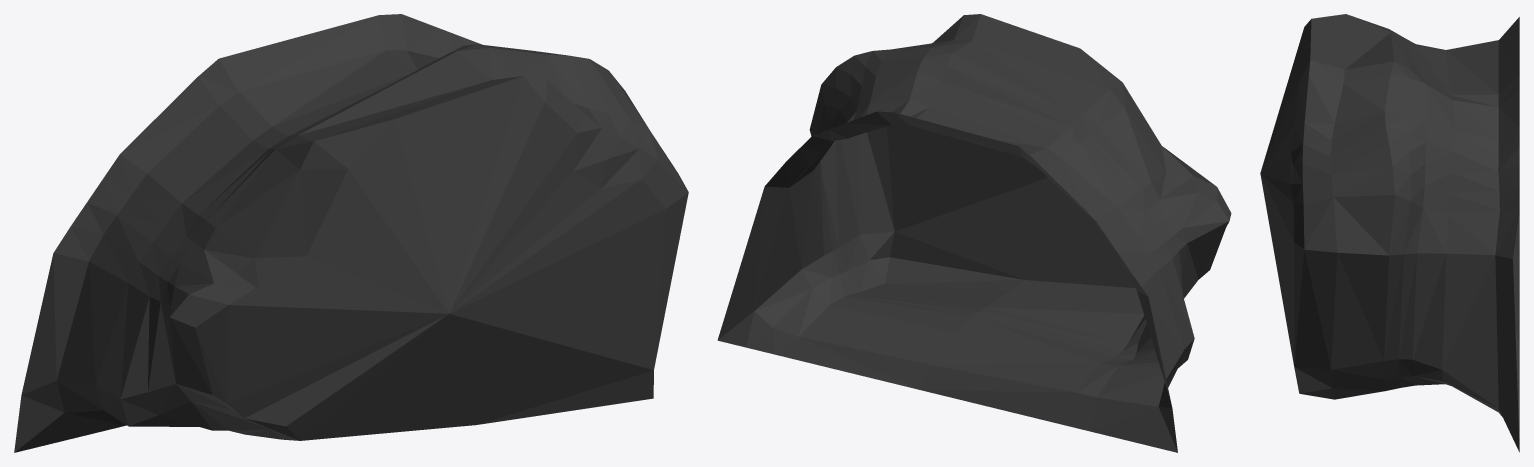
File: Cave_end.fbx
3 renders of one model, left to right at view 1: azimuth 30°, elevation 25°; view 2: azimuth 150°, elevation 25°; view 3: azimuth 270°, elevation 25°, orthographic. The views are drawn at different scales.
Visible parts, largest first — view 1: pCylinder10; view 2: pCylinder10; view 3: pCylinder10.
Part boxes in pixels (x1=…): pCylinder10: x1=14, y1=14, x2=688, y2=452; pCylinder10: x1=717, y1=14, x2=1231, y2=452; pCylinder10: x1=1260, y1=14, x2=1519, y2=452.
Bounding box in the file's own units: 8.81 × 5.37 × 4.08.
